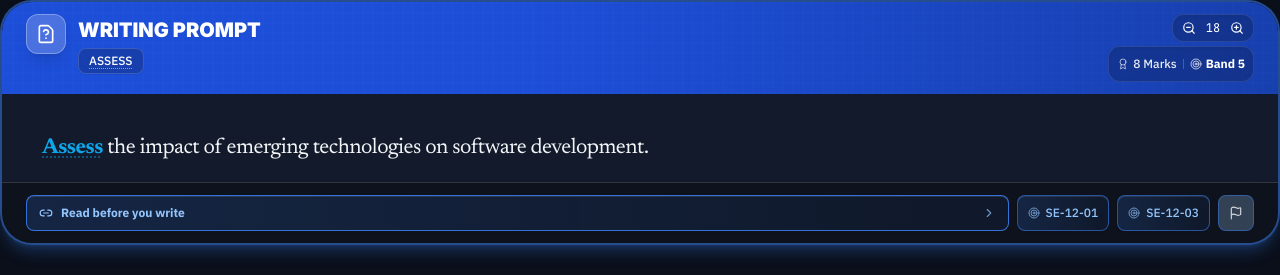
it: outcome chips in the prompt footer › renders the hover preview outside the card, which clips its own overflow
This screenshot has width=1280, height=275.
Hover over the button "SE-12-03" at [1164, 213], box [1117,195,1210,231]
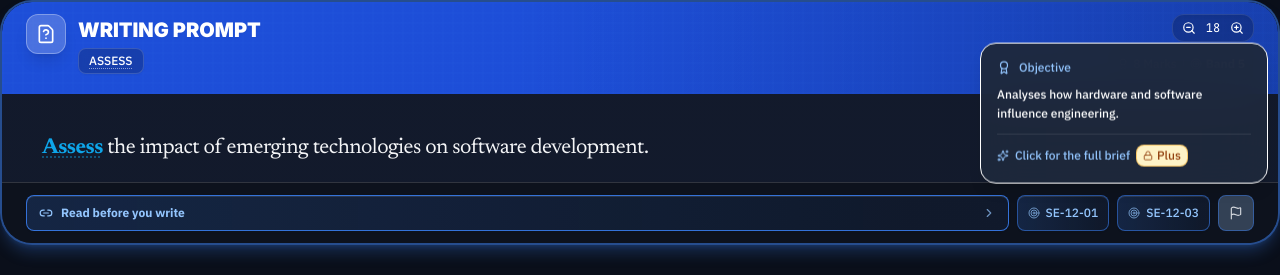
Now the tooltip shows "hardware and software", box [997,86,1202,121]
